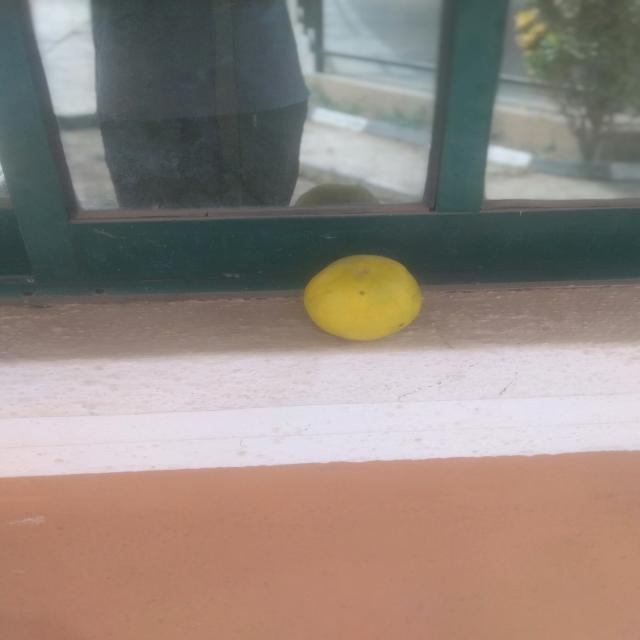agrume: (285, 249, 431, 347)
